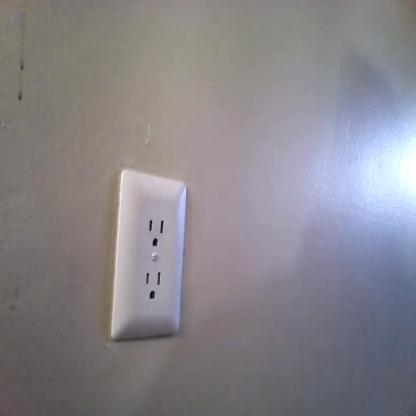OUTLET: (114, 170, 182, 336)
